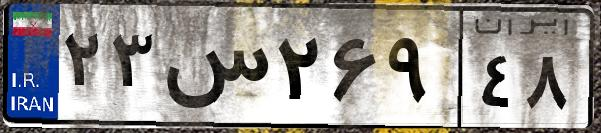2: (270, 28, 330, 110), (57, 26, 110, 100)
3: (110, 28, 158, 98)
4: (475, 38, 525, 113)
6: (330, 28, 385, 110)
8: (525, 38, 570, 115)
9: (385, 28, 445, 110)
س: (158, 20, 270, 120)
